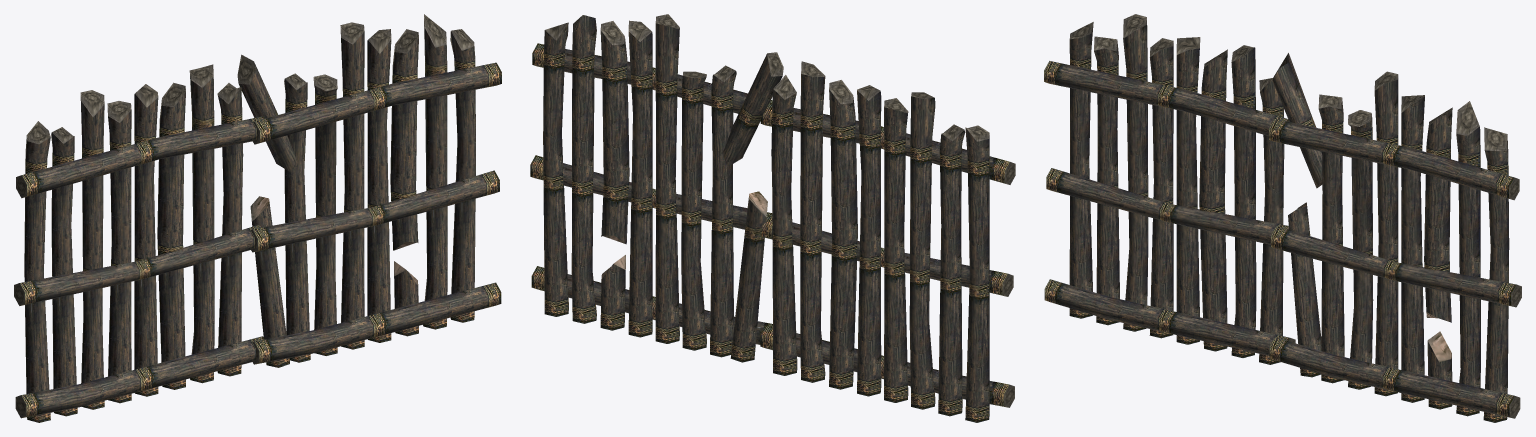
Rendered from weilan_fb_61.FBX.
3 renders of one model, left to right at view 1: azimuth 30°, elevation 25°; view 2: azimuth 150°, elevation 25°; view 3: azimuth 330°, elevation 25°, orthographic.
Visible parts, largest first — view 1: weilan_fb_61; view 2: weilan_fb_61; view 3: weilan_fb_61.
Part boxes in pixels (left/top/right/bottom): weilan_fb_61: left=14, top=14, right=501, bottom=422; weilan_fb_61: left=530, top=14, right=1015, bottom=422; weilan_fb_61: left=1044, top=14, right=1521, bottom=422.
Size of what is drawn, in the model's own units: 951 by 610 by 80.83.
